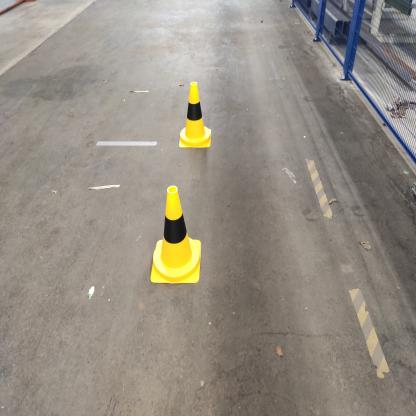Cones_small_yellow: (144, 180, 203, 288), (171, 77, 218, 148)
